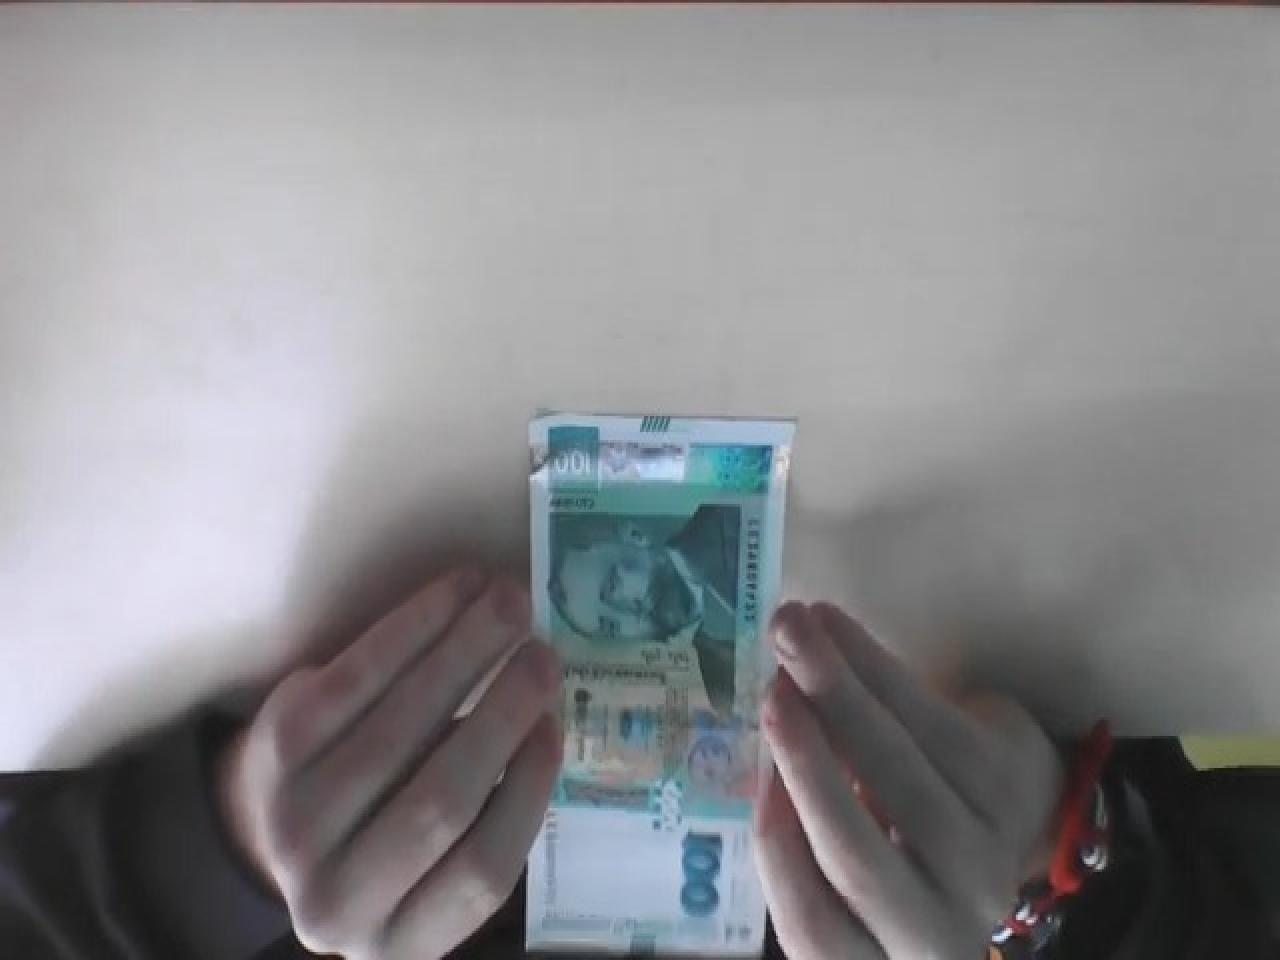100leva: (516, 405, 800, 960)
